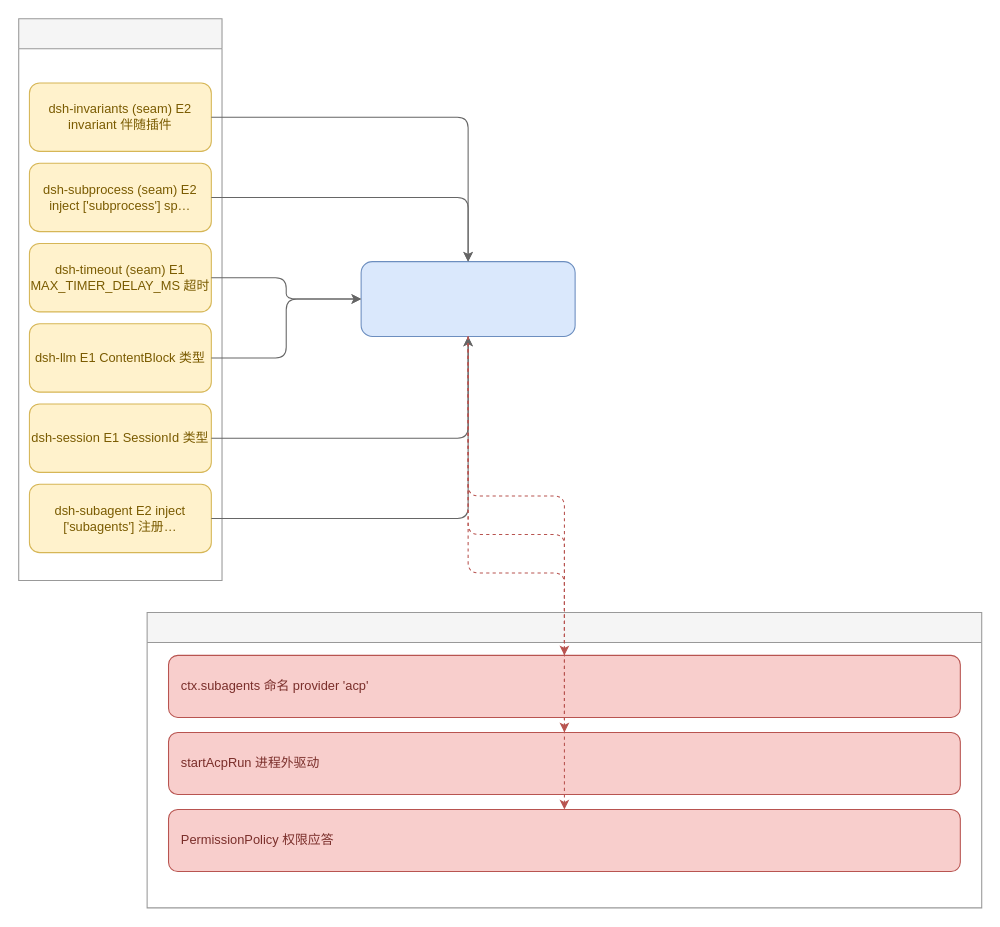
Some shapes in this 1000 by 927 pixel diagram are drawn without their labels. Each missing label, with the box of its shape:
dsh-subagent-acp @deepseek-ai/dsh-subagent-acp: (360, 261, 575, 337)
上游依赖 upstream (E1/E2/E3): (18, 18, 222, 580)
提供服务 provides（关键项）: (146, 612, 982, 908)
